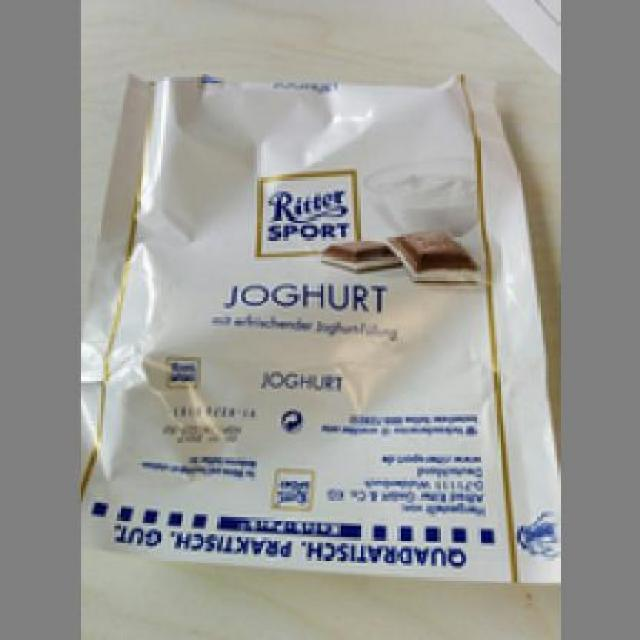Chocolate: (103, 77, 546, 583)
